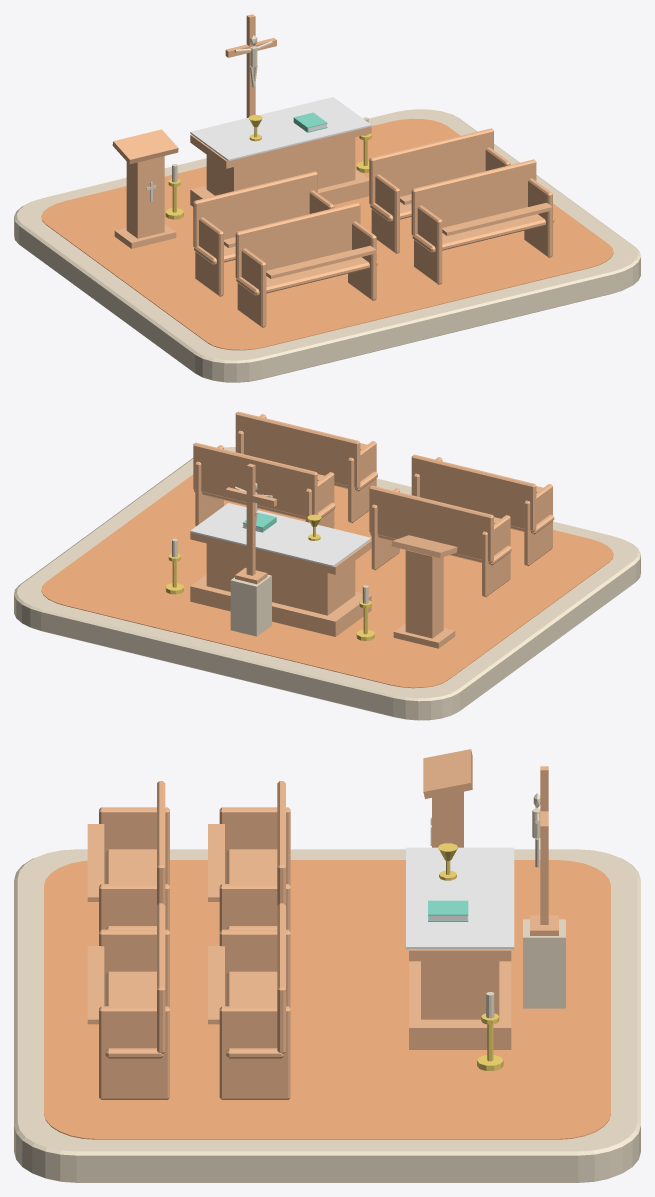
3 renders of one model, top to bottom at view 1: azimuth 30°, elevation 25°; view 2: azimuth 150°, elevation 25°; view 3: azimuth 270°, elevation 25°, orthographic. The views are drawn at different scales.
Visible parts, largest first — view 1: COM-02 Floor Surface, COM-01 Rounded Base Direct, Back.002, Back.003, Altar cloth, Back.001, Back, Altar, Body, End panel.004, End panel.006, End panel (+12 smaller); view 2: COM-02 Floor Surface, COM-01 Rounded Base Direct, Back, Back.002, Altar, Back.003, Back.001, Altar cloth, Body, Base, Display plinth, End panel.004 (+11 smaller); view 3: COM-02 Floor Surface, COM-01 Rounded Base Direct, Altar cloth, End panel.003, End panel.007, Base, Altar, Display plinth, End panel.002, End panel, End panel.006, End panel.004 (+19 smaller).
Part boxes in pixels (<box>): COM-02 Floor Surface: <box>41,118,613,350</box>; COM-01 Rounded Base Direct: <box>14,109,640,382</box>; Back.002: <box>235,202,360,278</box>; Back.003: <box>411,159,536,235</box>; Altar cloth: <box>190,97,371,161</box>; Back.001: <box>369,128,493,204</box>; Back: <box>193,171,317,247</box>; Altar: <box>206,137,355,195</box>; Body: <box>126,156,164,238</box>; End panel.004: <box>237,248,266,327</box>; End panel.006: <box>414,205,442,284</box>; End panel: <box>195,217,223,296</box>; COM-02 Floor Surface: <box>41,474,613,688</box>; COM-01 Rounded Base Direct: <box>14,447,640,720</box>; Back: <box>369,485,493,562</box>; Back.002: <box>411,454,536,531</box>; Altar: <box>206,543,355,615</box>; Back.003: <box>235,411,360,488</box>; Back.001: <box>193,442,317,516</box>; Altar cloth: <box>190,503,371,567</box>; Body: <box>405,550,443,638</box>; Base: <box>190,574,371,636</box>; Display plinth: <box>230,574,271,636</box>; End panel.004: <box>524,484,552,566</box>; COM-02 Floor Surface: <box>44,860,610,1139</box>; COM-01 Rounded Base Direct: <box>14,849,640,1182</box>; Altar cloth: <box>406,847,514,949</box>; End panel.003: <box>219,1006,290,1099</box>; End panel.007: <box>99,1006,169,1099</box>; Base: <box>409,961,511,1049</box>; Altar: <box>421,961,499,1019</box>; Display plinth: <box>523,919,565,1008</box>; End panel.002: <box>219,929,290,1007</box>; End panel: <box>219,807,290,885</box>; End panel.006: <box>99,929,169,1007</box>; End panel.004: <box>99,807,169,885</box>.
Size of the model in its own units: 6 by 2.41 by 5.2.
Materials: 1 (1 with a texture image).
